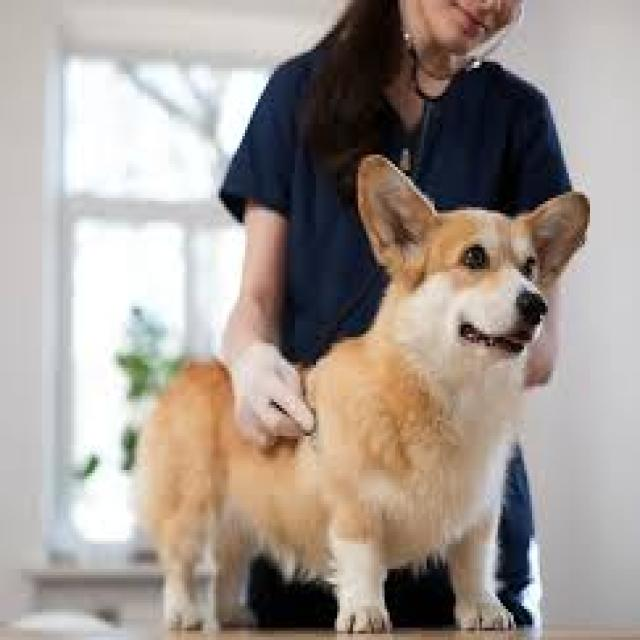CORGI: (130, 162, 586, 640)
